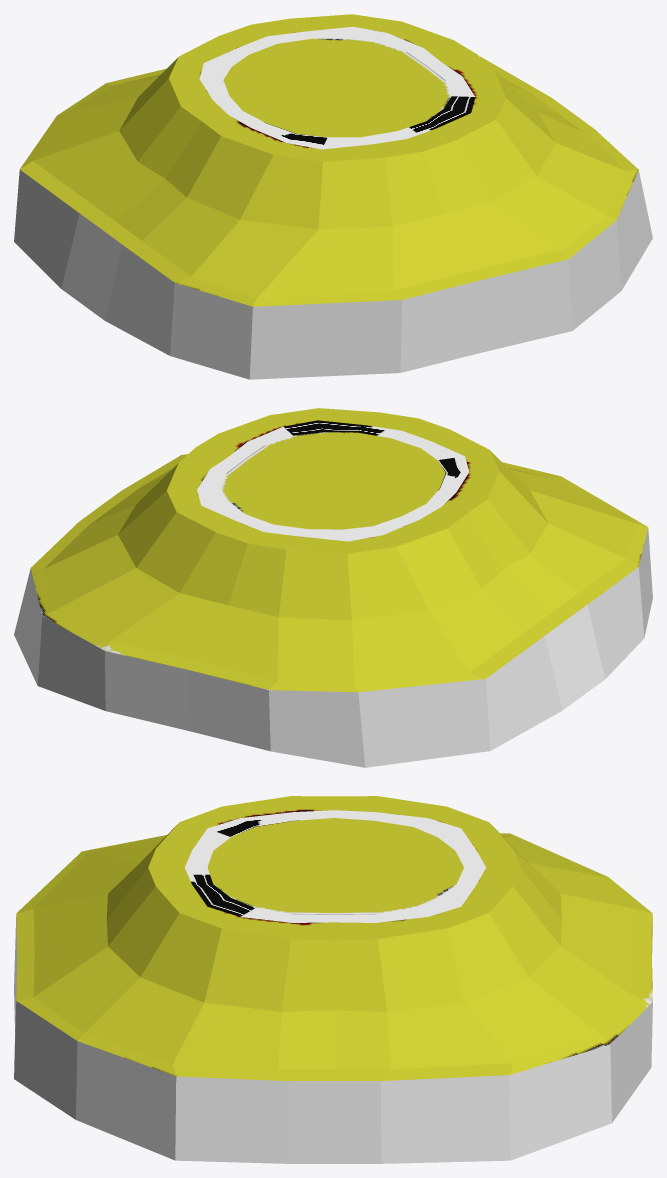
The model's file is hopo_three.fbx.
3 views of the same model, one above another, from view 1: azimuth 30°, elevation 25°; view 2: azimuth 150°, elevation 25°; view 3: azimuth 270°, elevation 25° (orthographic). The views are drawn at different scales.
Parts seen in each view (by area): view 1: pasted__polySurface1; view 2: pasted__polySurface1; view 3: pasted__polySurface1.
Part boxes in pixels (x1,y1,x2,y2): pasted__polySurface1: (14,14,652,379); pasted__polySurface1: (14,408,652,767); pasted__polySurface1: (14,796,652,1163).
Size of the model in its own units: 0.9786 by 0.2885 by 1.
Materials: 1 (1 with a texture image).
